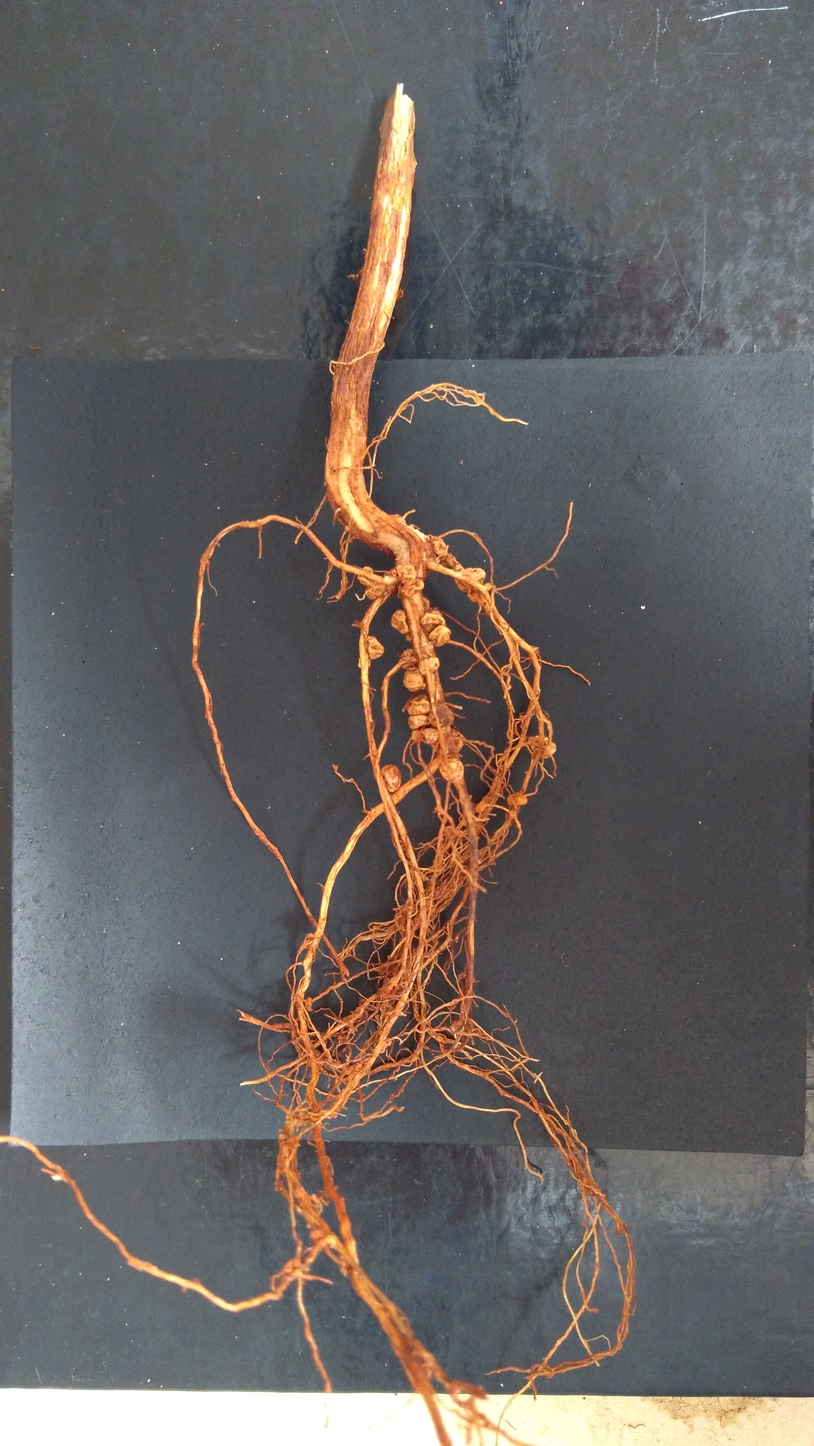nodule: (453, 565, 488, 595), (528, 733, 558, 760), (427, 701, 455, 729), (379, 763, 403, 794), (438, 757, 465, 784), (404, 693, 432, 716), (443, 727, 466, 755), (424, 533, 449, 558), (428, 624, 453, 648), (402, 667, 426, 691), (365, 634, 385, 662), (419, 612, 447, 632), (395, 563, 418, 586), (390, 609, 410, 635), (398, 647, 418, 671), (364, 581, 387, 601), (406, 713, 432, 730), (356, 565, 375, 588), (418, 657, 440, 676), (506, 791, 529, 807), (419, 727, 439, 745), (283, 1257, 301, 1274), (399, 583, 415, 598), (379, 1036, 392, 1053), (412, 578, 425, 592), (474, 799, 486, 814), (410, 729, 421, 744), (386, 583, 398, 595), (429, 609, 444, 618), (404, 631, 412, 642)
